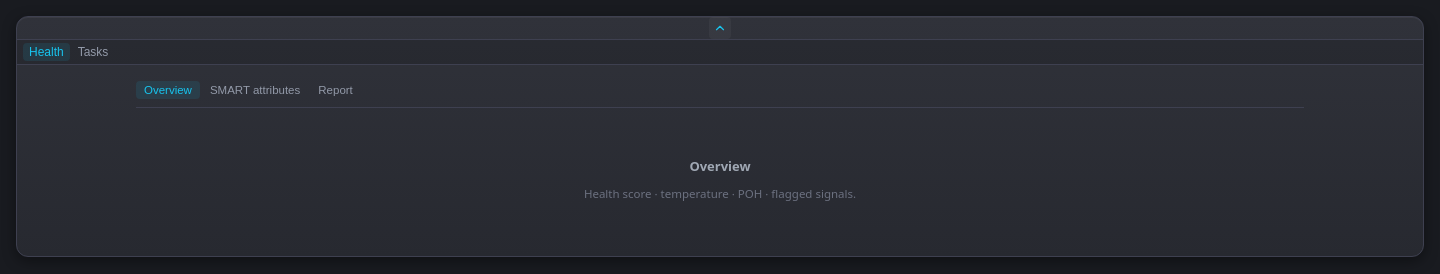
Test case: WorkspacePanel › switches to the Queue tab
Click the button "Tasks".
click(93, 52)  # box [72,43,114,61]
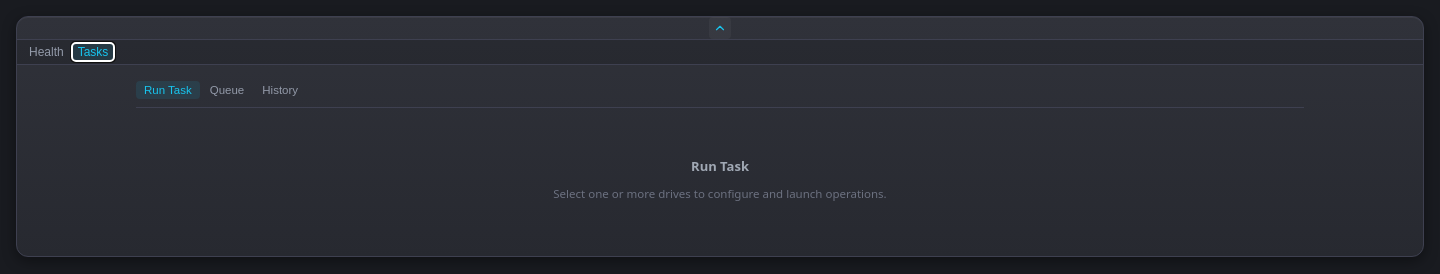
Click the button "Queue".
click(227, 90)  # box [202,81,252,99]
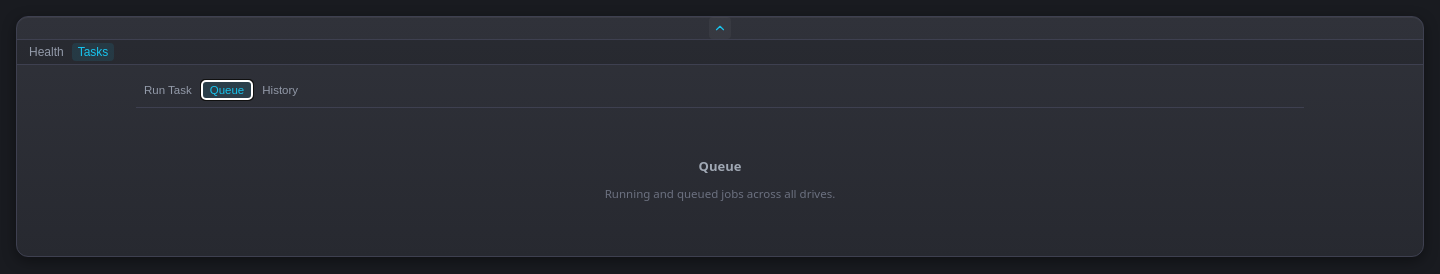
Now the text "Running and queued jobs across all drives." is shown, box [605,183,835,204]
